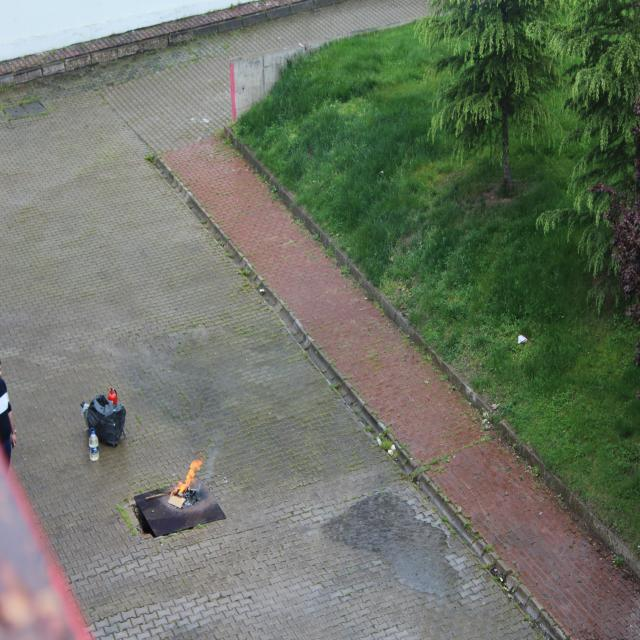fire: (144, 445, 215, 513)
